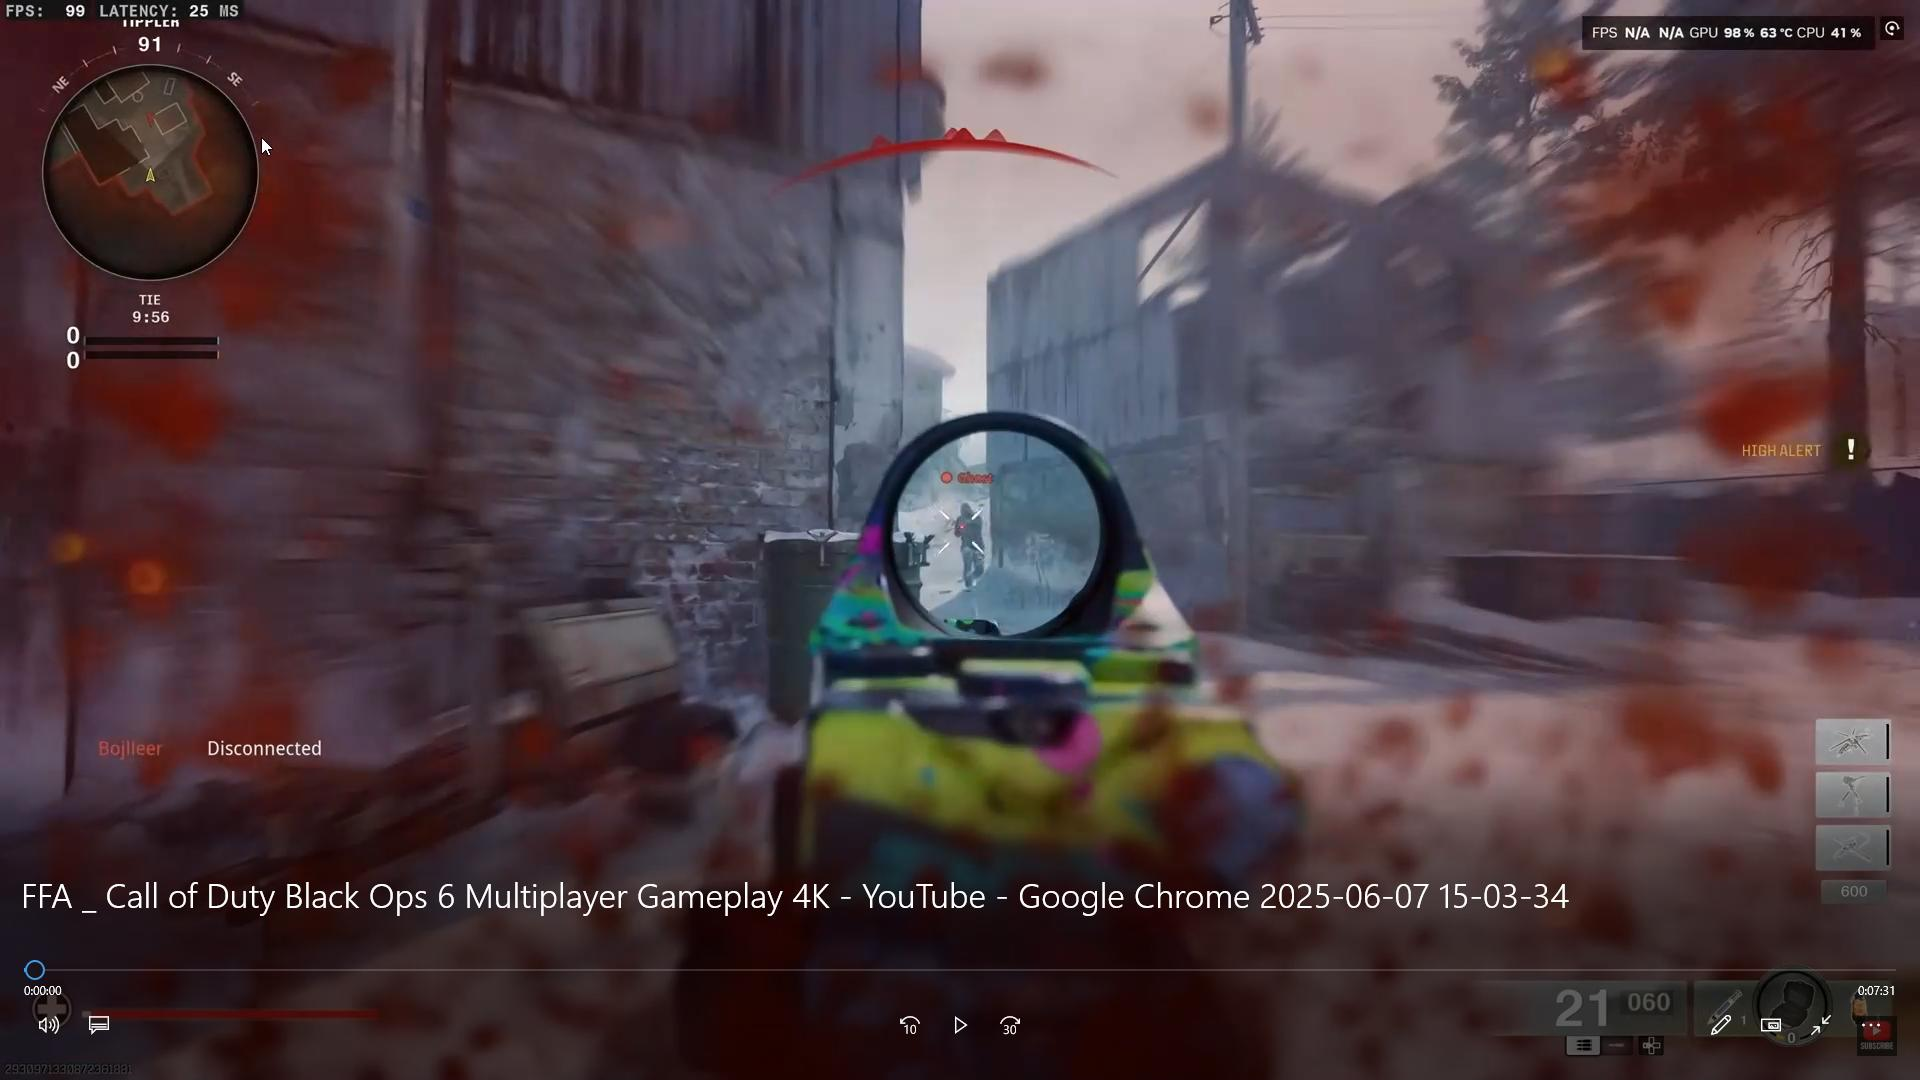Enemy: (938, 462, 1000, 587)
